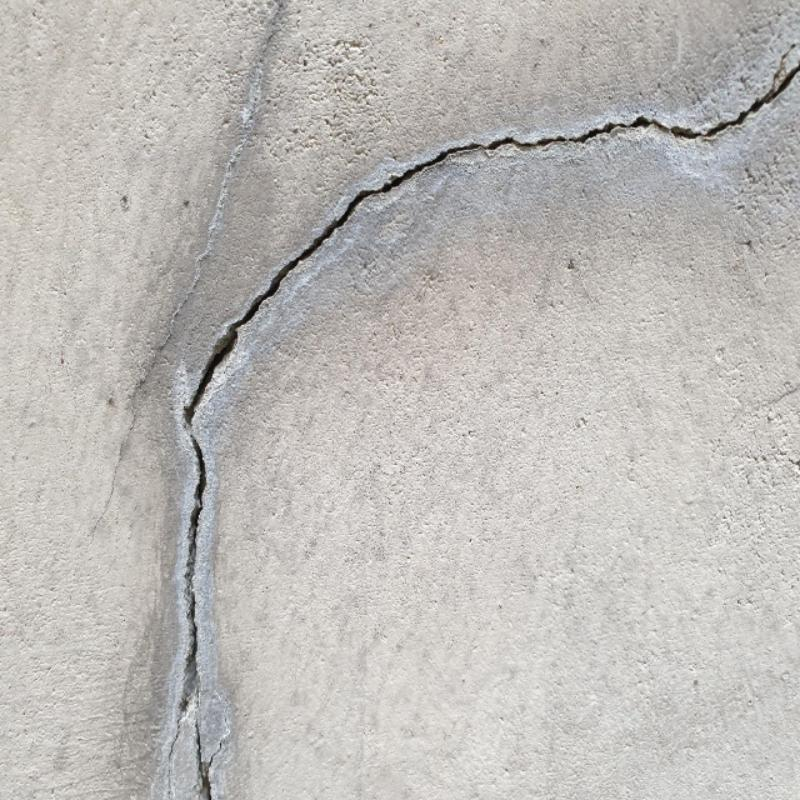pothole: (171, 66, 797, 787)
